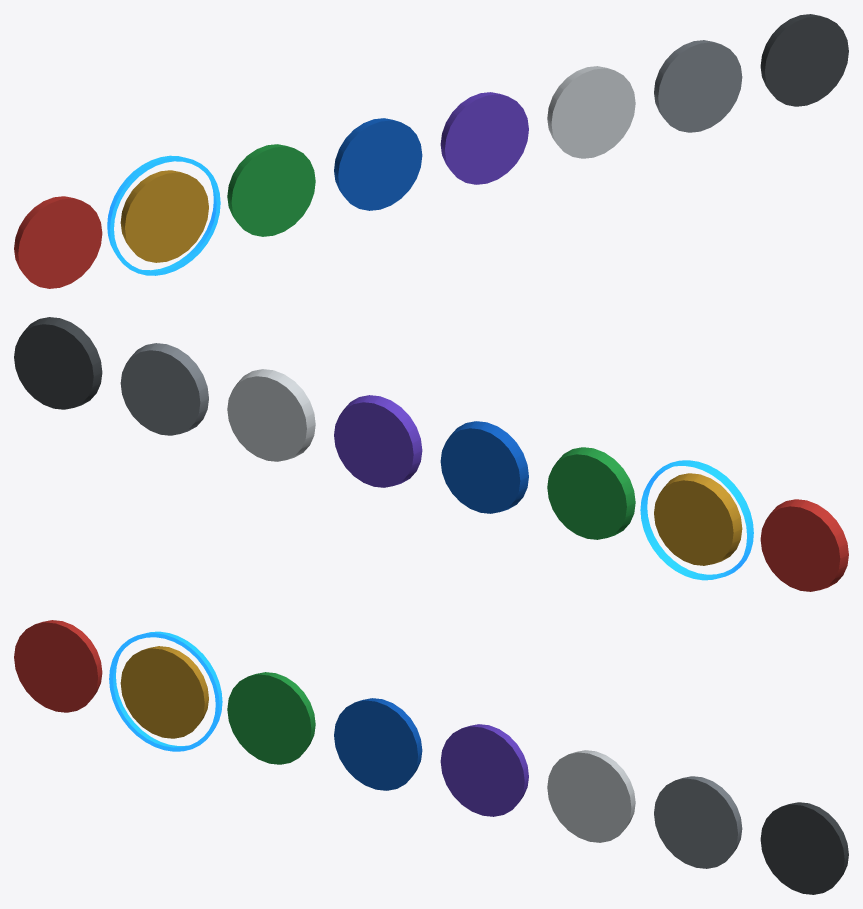
Rendered from colour-swatch-picker-118762.glb.
3 views of the same model, one above another, from view 1: azimuth 30°, elevation 25°; view 2: azimuth 150°, elevation 25°; view 3: azimuth 330°, elevation 25° (orthographic).
Parts seen in each view (by area): view 1: swatches, pick-ring; view 2: swatches, pick-ring; view 3: swatches, pick-ring.
Boxes of the visible parts, <box> form: swatches: <box>14,14,848,288</box>; pick-ring: <box>107,155,220,275</box>; swatches: <box>14,317,848,591</box>; pick-ring: <box>640,460,753,580</box>; swatches: <box>14,620,848,894</box>; pick-ring: <box>109,631,222,751</box>.
Bounding box in the file's own units: 0.296 × 0.0394 × 0.004.
